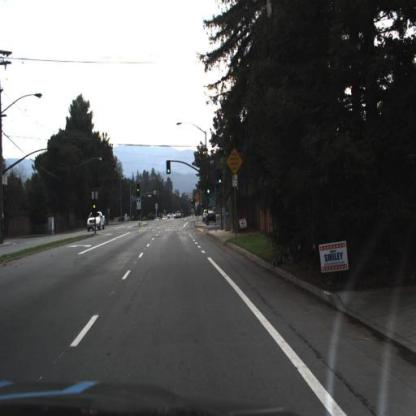car: (86, 212, 105, 231)
trafficLight-Green: (218, 171, 224, 186), (167, 163, 171, 176), (207, 182, 211, 194)
trafficLight-Yellow: (93, 198, 98, 214)
trafficLight-YellowLeft: (136, 184, 141, 198)
